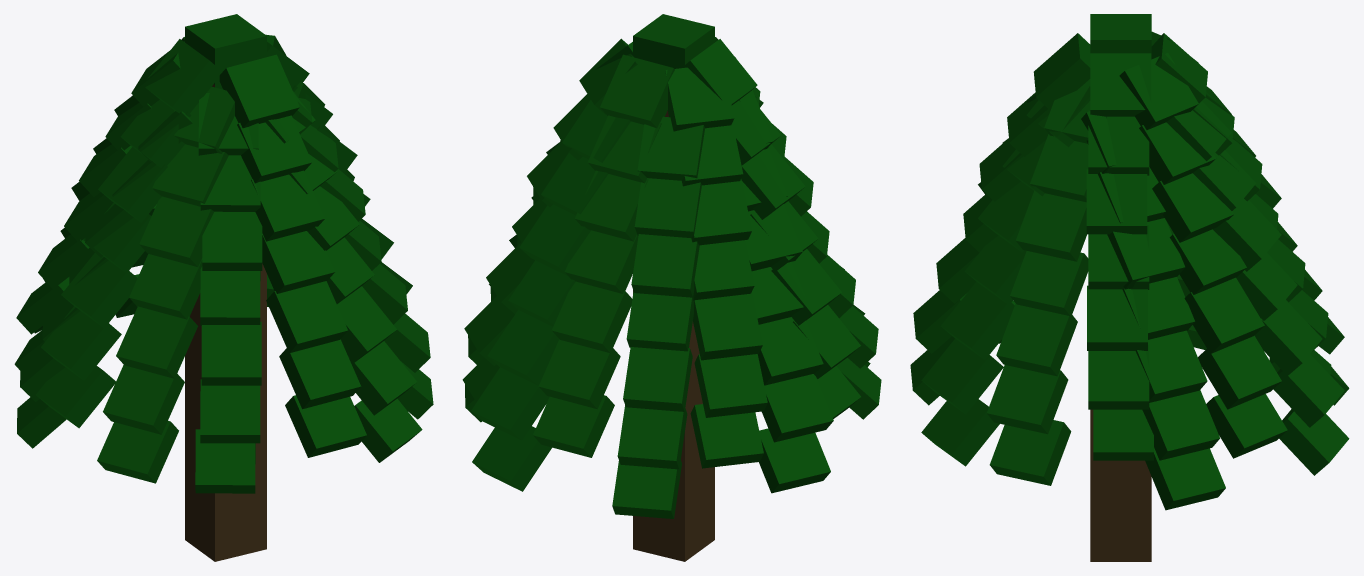
File: Tree.fbx
3 renders of one model, left to right at view 1: azimuth 30°, elevation 25°; view 2: azimuth 150°, elevation 25°; view 3: azimuth 270°, elevation 25°, orthographic.
Visible parts, largest first — view 1: Trunk, Cube.026, Cube.025, Cube.027, Cube.018, Cube.019, Cube.024, Cube.023, Cube.016, Cube.020, Cube.017, Cube.011 (+30 smaller); view 2: Cube.039, Cube.040, Cube.037, Trunk, Cube.041, Cube.038, Cube.036, Cube.033, Cube.032, Cube.035, Cube.028, Cube.034 (+30 smaller); view 3: Trunk, Cube.007, Cube.018, Cube.019, Cube.047, Cube.016, Cube.017, Cube.032, Cube.033, Cube.020, Cube.004, Cube.048 (+39 smaller).
Boxes of the visible parts, x1,y1,x2,y2 form: Trunk: (185,84,266,561); Cube.026: (200,341,416,443); Cube.025: (201,286,396,385); Cube.027: (195,398,422,493); Cube.018: (116,264,407,378); Cube.019: (103,313,430,434); Cube.024: (200,237,374,325); Cube.023: (202,186,359,270); Cube.016: (139,169,365,266); Cube.020: (97,361,433,483); Cube.017: (129,221,381,319); Cube.011: (149,204,347,353); Cube.039: (487,310,692,411); Cube.040: (471,367,687,469); Cube.037: (519,204,699,297); Trunk: (633,111,714,561); Cube.041: (472,426,681,518); Cube.038: (508,260,693,351); Cube.036: (541,153,701,237); Cube.033: (464,296,767,417); Cube.032: (486,242,762,360); Cube.035: (562,100,704,180); Cube.028: (579,38,734,131); Cube.034: (462,358,763,468); Trunk: (1090,409,1151,561); Cube.007: (1033,33,1207,110); Cube.018: (996,303,1077,376); Cube.019: (987,365,1068,434); Cube.047: (1142,274,1220,460); Cube.016: (1015,190,1086,261); Cube.017: (1010,251,1088,316); Cube.032: (1184,277,1264,353); Cube.033: (1198,335,1281,409); Cube.020: (989,300,1071,485); Cube.004: (1087,285,1147,350); Cube.048: (1145,325,1225,510).
Bounding box in the file's own units: 14.06 × 18.84 × 14.36.
